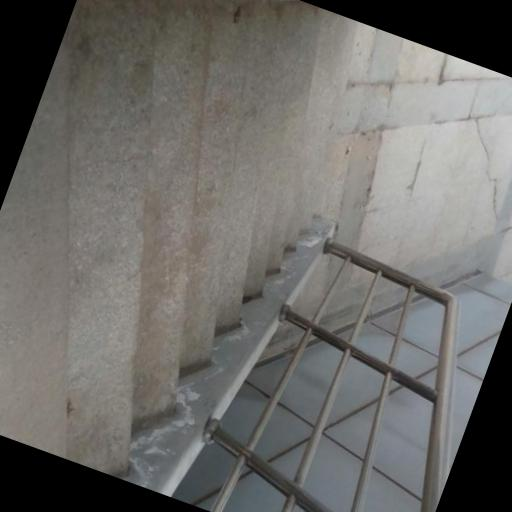stairs: (0, 0, 354, 476)
